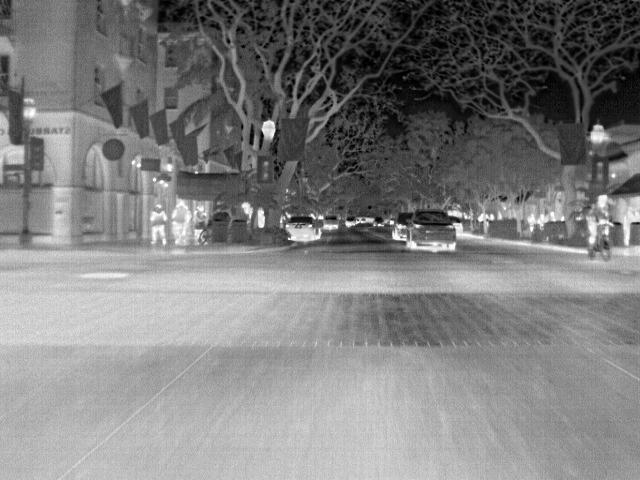car: (404, 209, 459, 253), (285, 214, 322, 244), (388, 212, 415, 242), (322, 214, 341, 230), (343, 214, 357, 228), (372, 215, 386, 227)
person: (587, 193, 614, 251), (170, 198, 193, 244), (150, 204, 172, 246), (192, 202, 209, 244), (527, 212, 539, 231)
